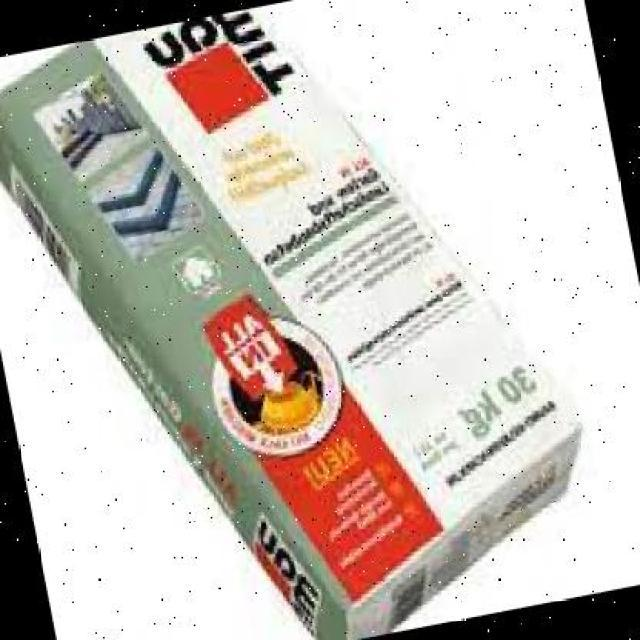gunny_bag: (0, 8, 579, 640)
